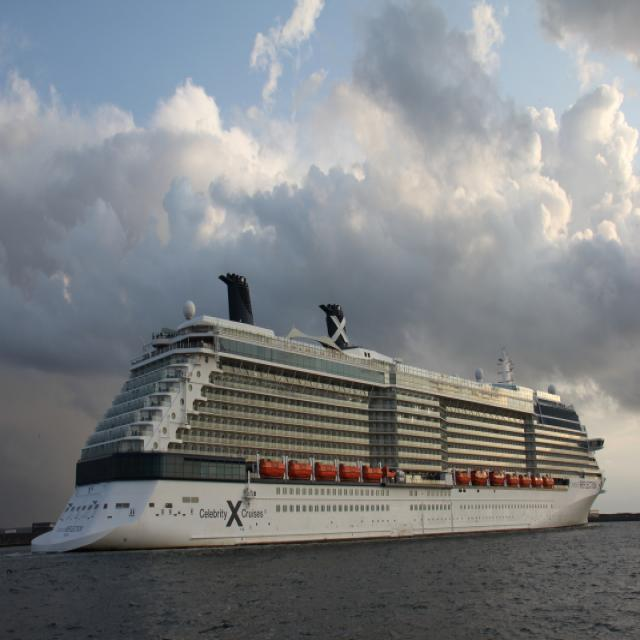cruises: (28, 265, 609, 563)
